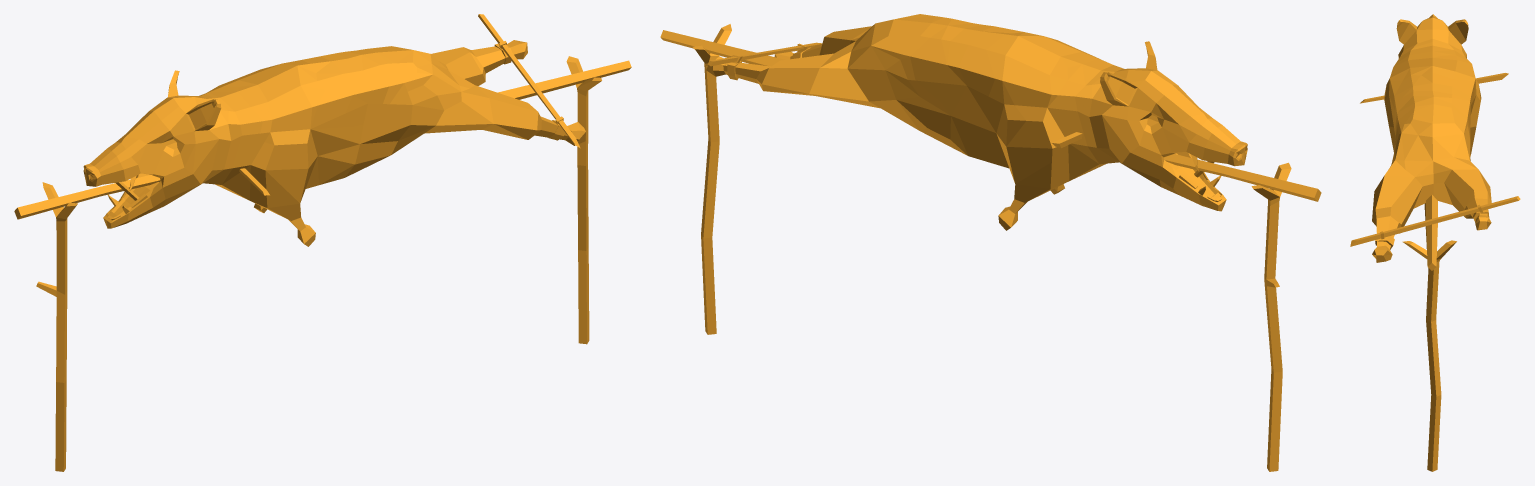
The model's file is SM_Boar_Roast.fbx.
The picture shows the model from 3 angles, left to right: view 1: azimuth 30°, elevation 25°; view 2: azimuth 150°, elevation 25°; view 3: azimuth 270°, elevation 25°; orthographic projection. The views are drawn at different scales.
Parts seen in each view (by area): view 1: boar-roast-boar, boar-roast-base; view 2: boar-roast-boar, boar-roast-base; view 3: boar-roast-boar, boar-roast-base.
Boxes of the visible parts, x1,y1,x2,y2 form: boar-roast-boar: [83, 14, 585, 246]; boar-roast-base: [14, 56, 631, 471]; boar-roast-boar: [706, 14, 1247, 230]; boar-roast-base: [660, 24, 1321, 471]; boar-roast-boar: [1350, 16, 1520, 262]; boar-roast-base: [1402, 14, 1456, 471].
Size of the model in its own units: 2.6 by 1.43 by 0.7564.
